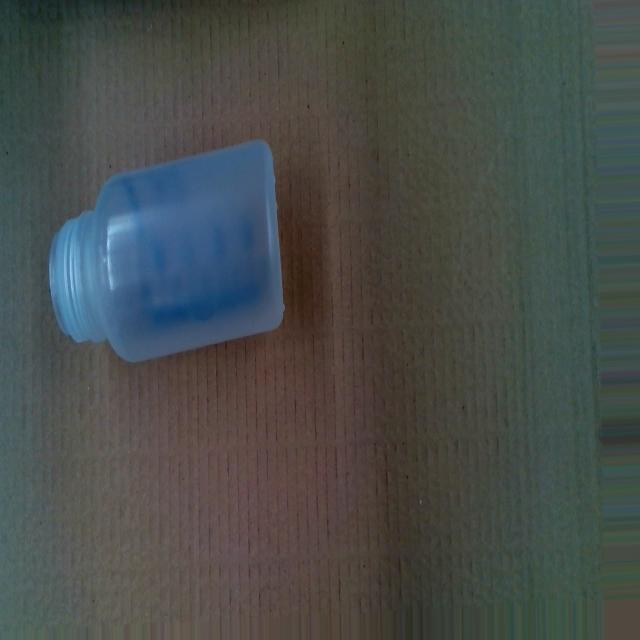bottle: (47, 135, 286, 368)
